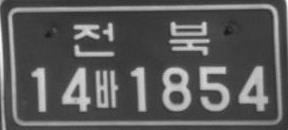1: (26, 66, 55, 112), (126, 66, 154, 111)
4: (238, 65, 269, 110), (61, 66, 91, 112)
5: (198, 64, 230, 112)
8: (161, 65, 192, 112)
바: (95, 70, 118, 108)
전북_D: (73, 20, 210, 57)
